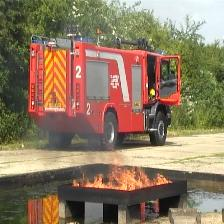fire: (73, 148, 173, 192)
